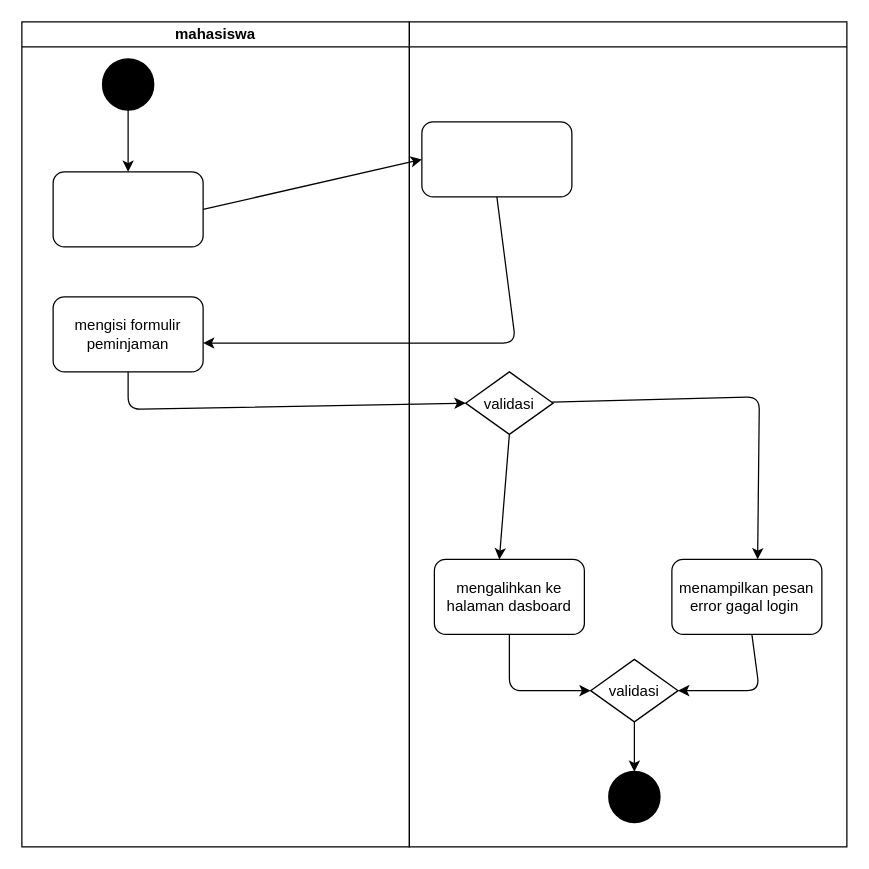
This 869x869 diagram has some shape labels left out. The shapes that lost their labels are listed below. From the top down, each one's box as (x1, y1, x2, y2) in pixels, then its label:
(421, 121, 572, 197): menampilkan username dan password
(52, 171, 203, 247): membuka halaman login
(408, 21, 847, 847): respon sistem
